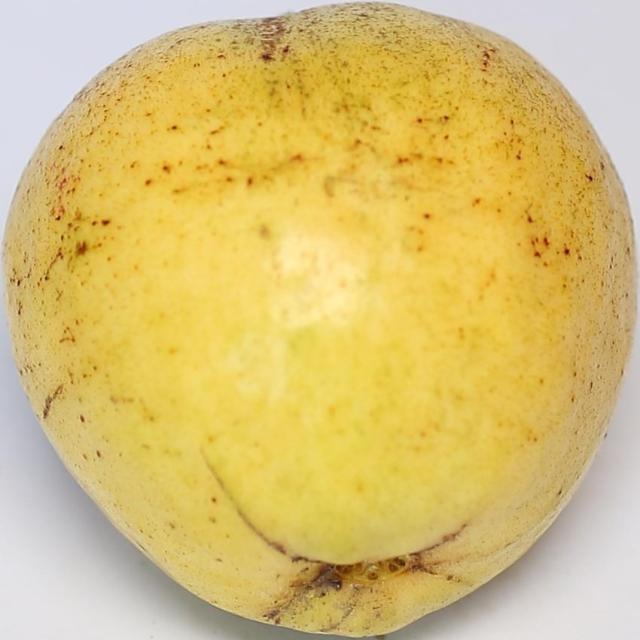Good_Guava: (1, 3, 637, 640)
